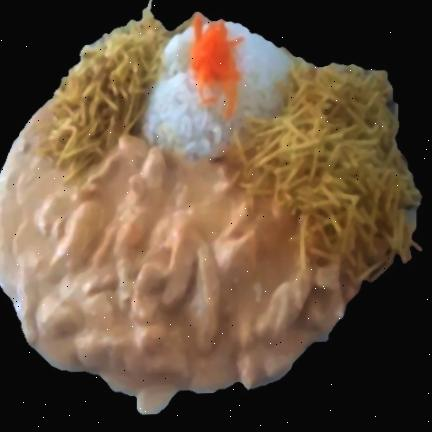chicken: (0, 108, 360, 391), (0, 124, 321, 412)
potato: (227, 63, 421, 282), (229, 64, 420, 280), (25, 10, 163, 173)
rice: (143, 21, 284, 161)
